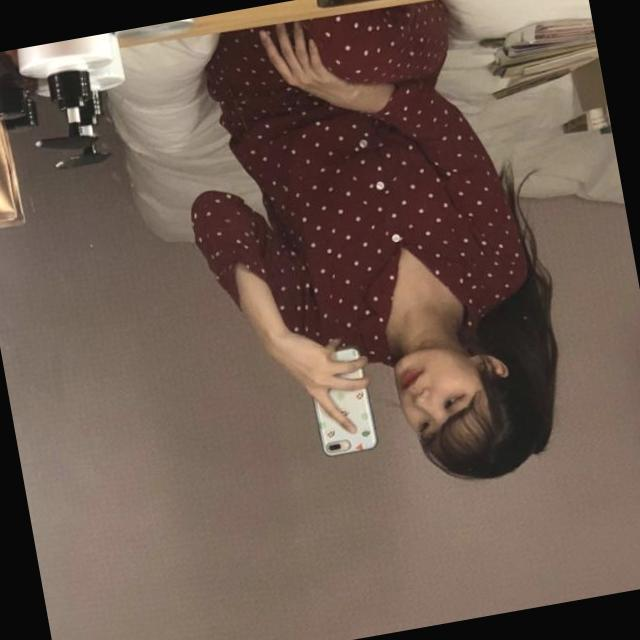lens: (323, 442, 342, 453)
phone: (302, 343, 379, 463)
